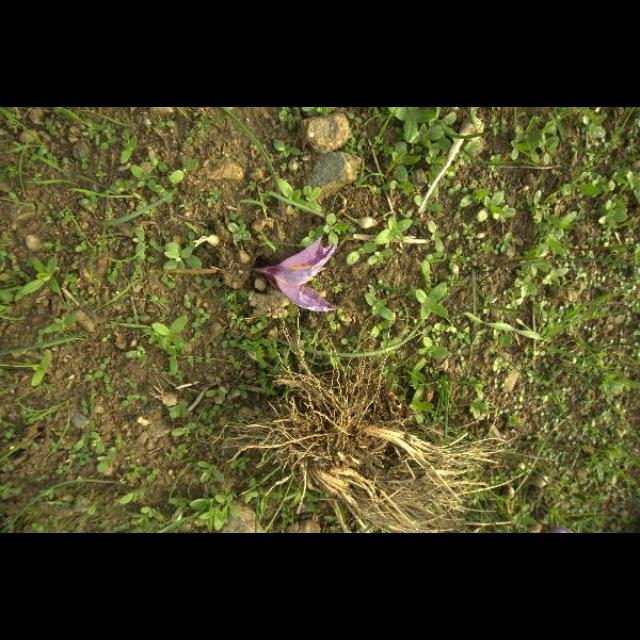flower: (255, 236, 339, 312)
